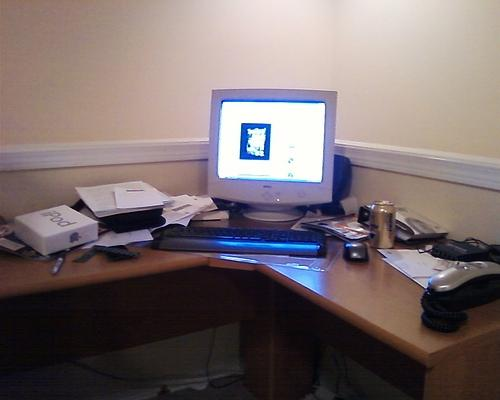apple: (69, 232, 82, 244)
